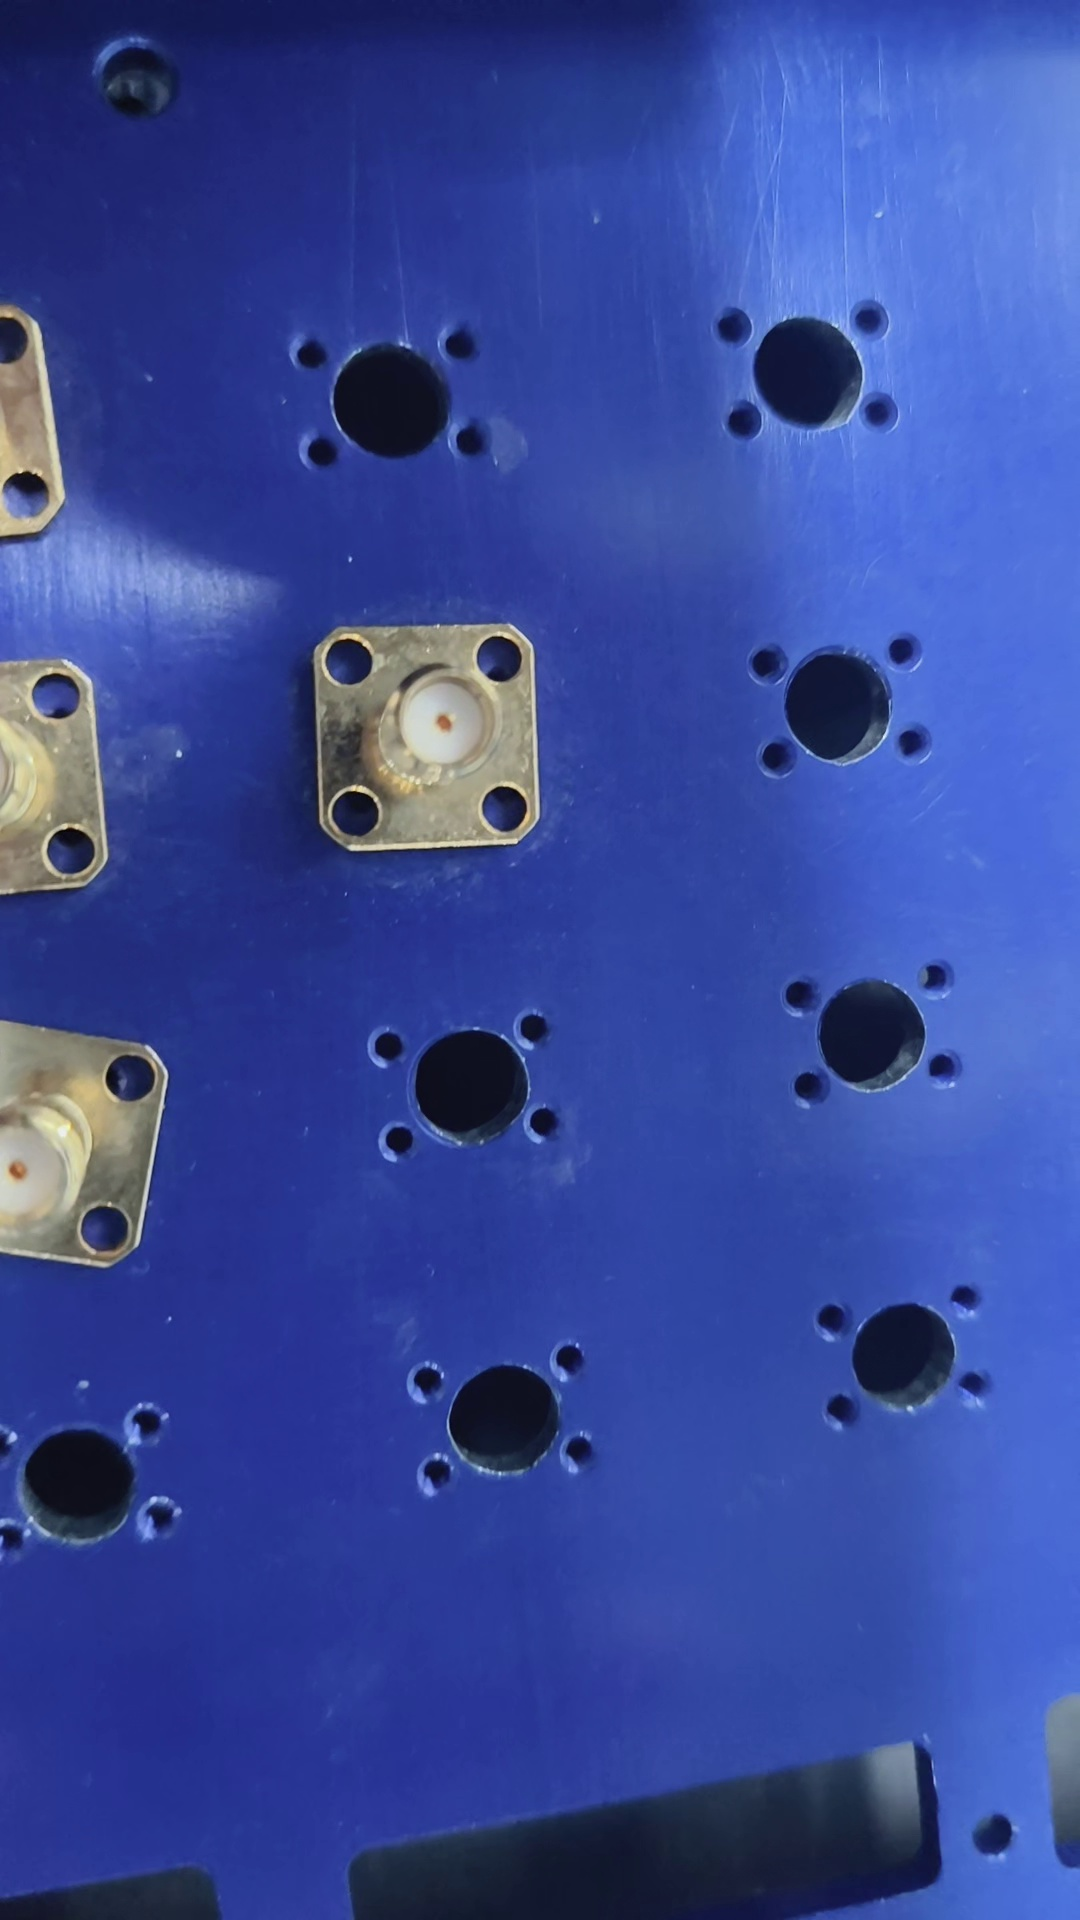SMA: (307, 626, 547, 855)
